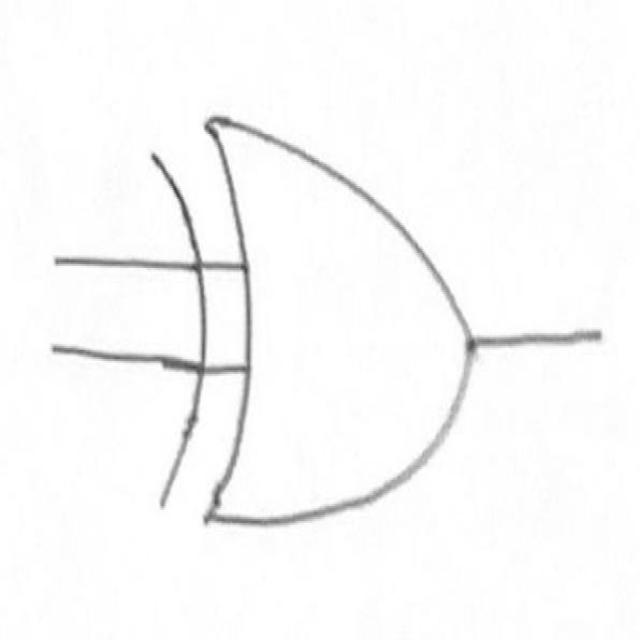XOR: (115, 57, 492, 553)
